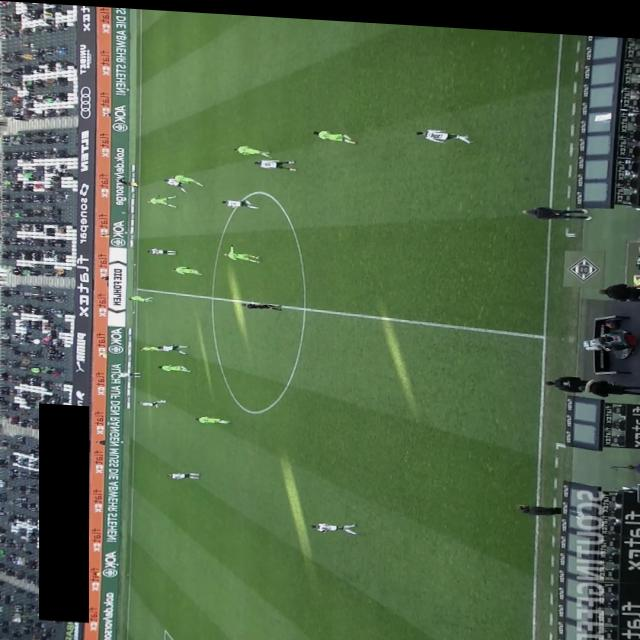player: (415, 121, 475, 138), (310, 515, 362, 530), (223, 241, 261, 260), (312, 126, 358, 140), (254, 154, 298, 168), (163, 174, 195, 191), (168, 171, 204, 184), (232, 141, 270, 153), (146, 191, 178, 205), (221, 195, 260, 206), (157, 340, 189, 352), (194, 412, 232, 422), (138, 395, 166, 406), (166, 468, 200, 477), (171, 263, 203, 272), (146, 244, 178, 253), (158, 361, 192, 369), (114, 369, 142, 377), (140, 342, 164, 350), (128, 293, 154, 300)
referee: (242, 298, 282, 307), (114, 173, 140, 184)
